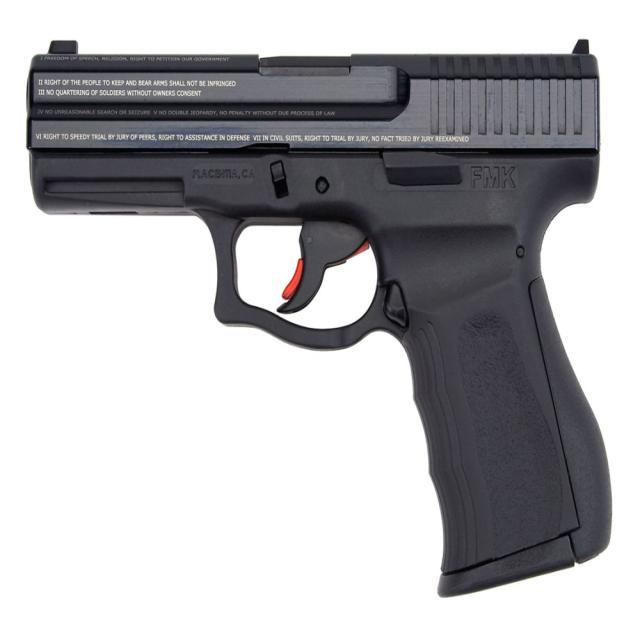Pistol: (18, 13, 627, 620)
